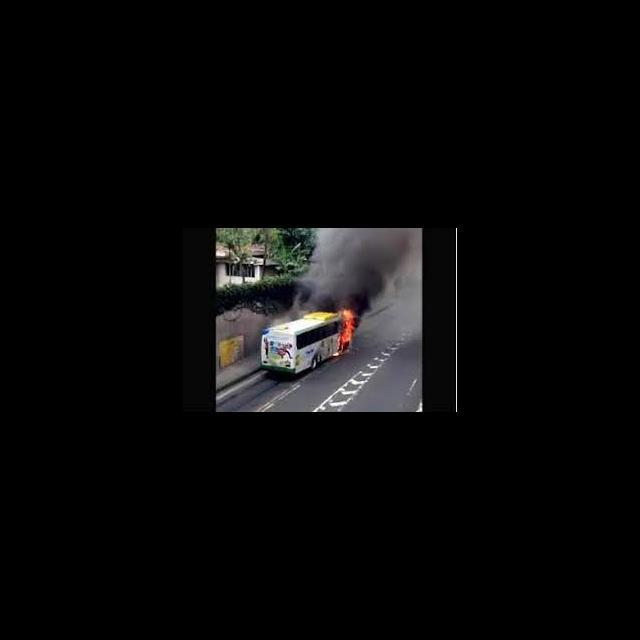Fire: (334, 304, 359, 358)
Smoke: (290, 228, 422, 320)
